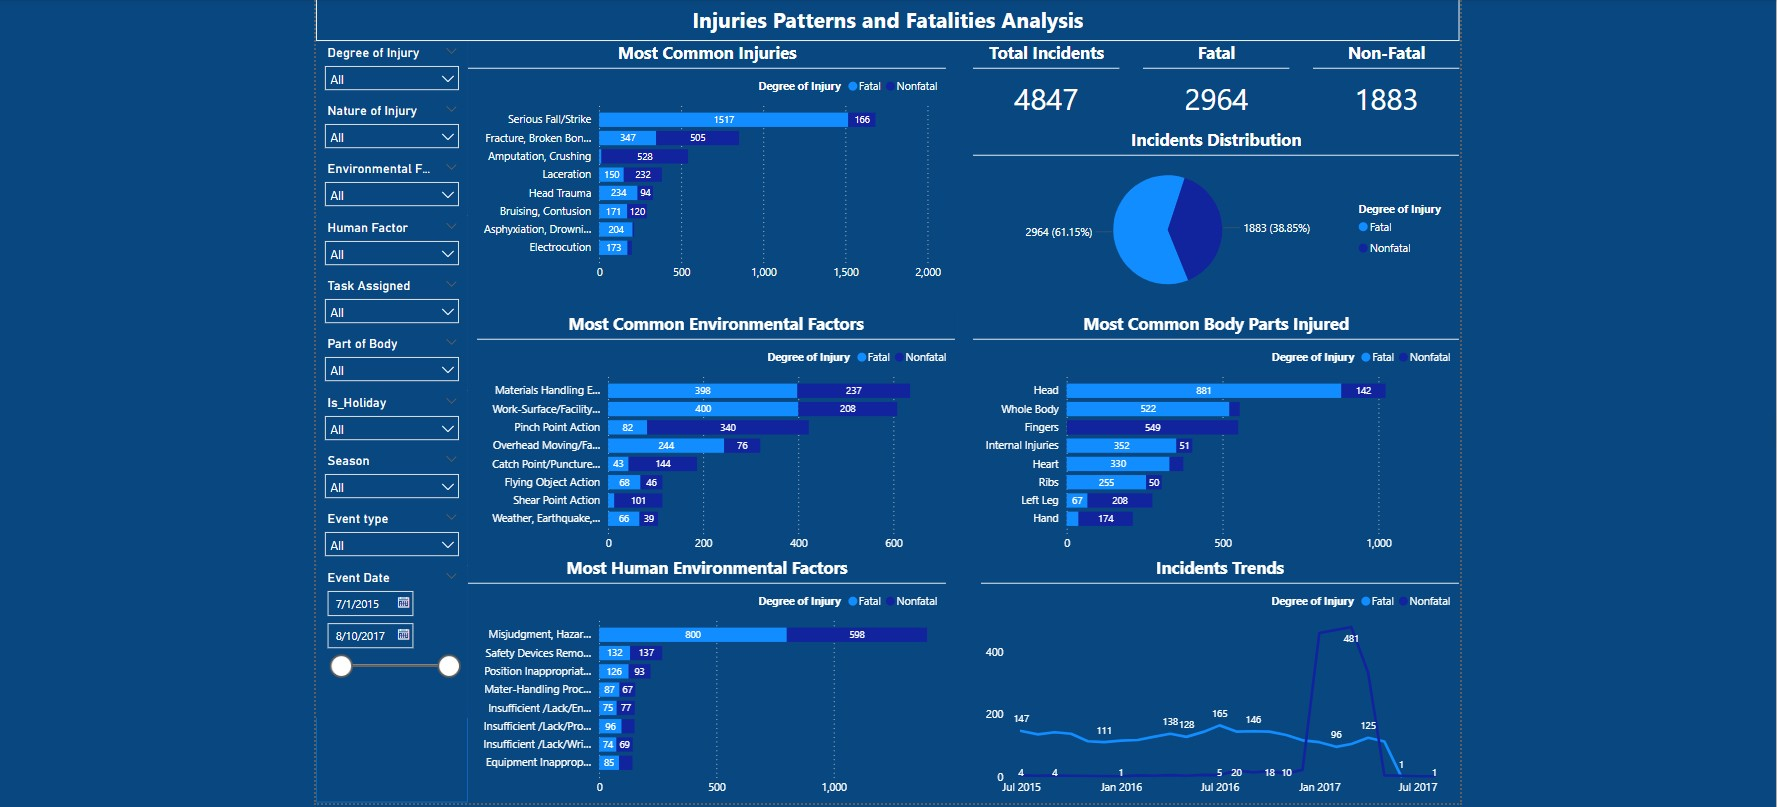

This screenshot's page, from the dashboard's own definition file:
{"tool":"powerbi","page":{"name":"Incidents Analysis","canvas":[1280,900],"ordinal":1},"visuals":[{"type":"pieChart","title":"Incidents Distribution","fields":{"Category":["osha_injuries.Degree of Injury"],"Y":["CountNonNull(osha_injuries.Degree of Injury)"]},"box":[735.6,144.6,544.4,195.8],"z":0},{"type":"shape","box":[0,46.6,170.2,853.3],"z":2},{"type":"slicer","fields":{"Values":["osha_injuries.Degree of Injury"]},"box":[0,46.6,170.2,65.3],"z":3},{"type":"slicer","fields":{"Values":["osha_injuries.Nature of Injury"]},"box":[0,111.9,170.2,65.3],"z":4},{"type":"slicer","fields":{"Values":["osha_injuries.Environmental Factor"]},"box":[0,177.2,170.2,65.3],"z":5},{"type":"slicer","fields":{"Values":["osha_injuries.Human Factor"]},"box":[0,242.5,170.2,65.3],"z":6},{"type":"slicer","fields":{"Values":["osha_injuries.Task Assigned"]},"box":[0,307.8,170.2,65.3],"z":7},{"type":"slicer","fields":{"Values":["osha_injuries.Part of Body"]},"box":[0,373,170.2,65.3],"z":8},{"type":"slicer","fields":{"Values":["osha_injuries.Is_Holiday"]},"box":[0,438.3,170.2,65.3],"z":9},{"type":"slicer","fields":{"Values":["osha_injuries.Season"]},"box":[0,503.6,170.2,65.3],"z":10},{"type":"slicer","fields":{"Values":["osha_injuries.Event type"]},"box":[0,568.9,170.2,65.3],"z":11},{"type":"slicer","fields":{"Values":["osha_injuries.Event Date"]},"box":[0,634.2,170.2,170.2],"z":12},{"type":"barChart","title":"Most Common Injuries","fields":{"Category":["osha_injuries.Nature of Injury"],"Y":["CountNonNull(osha_injuries.Nature of Injury)"],"Series":["osha_injuries.Degree of Injury"]},"box":[170.2,46.6,535.1,276.3],"z":13},{"type":"card","title":"Total Incidents","fields":{"Values":["CountNonNull(osha_injuries.Index)"]},"box":[735.6,46.6,164.4,97.9],"z":14},{"type":"barChart","title":"Most Human Environmental Factors","fields":{"Y":["CountNonNull(osha_injuries.Nature of Injury)"],"Series":["osha_injuries.Degree of Injury"],"Category":["osha_injuries.Human Factor"]},"box":[170.2,623.7,535.1,276.3],"z":16},{"type":"lineChart","title":"Incidents Trends","fields":{"Y":["CountNonNull(osha_injuries.Nature of Injury)"],"Category":["osha_injuries.Start of the Month"],"Series":["osha_injuries.Degree of Injury"]},"box":[744.9,623.7,535.1,276.3],"z":17},{"type":"card","title":"Fatal","fields":{"Values":["CountNonNull(osha_injuries.Index)"]},"box":[925.6,46.6,164.4,97.9],"z":18},{"type":"card","title":"Non-Fatal","fields":{"Values":["CountNonNull(osha_injuries.Index)"]},"box":[1115.6,46.6,164.4,97.9],"z":19},{"type":"barChart","title":"Most Common Body Parts Injured","fields":{"Y":["CountNonNull(osha_injuries.Nature of Injury)"],"Series":["osha_injuries.Degree of Injury"],"Category":["osha_injuries.Part of Body"]},"box":[735.6,350.9,544.4,276.3],"z":20},{"type":"barChart","title":"Most Common Environmental Factors","fields":{"Y":["CountNonNull(osha_injuries.Nature of Injury)"],"Series":["osha_injuries.Degree of Injury"],"Category":["osha_injuries.Environmental Factor"]},"box":[180.2,350.4,535.1,276.3],"z":21},{"type":"textbox","box":[0,0,1280,46.6],"z":22}]}

Visuals, with their boxes on the page's 1280x900 design canvas (x1, y1, x2, y2). These are canvas units, not pixel positions in the 1777x807 screenshot, which may show the page scaled, cropped or inside an application window:
"Incidents Distribution" pieChart: 736 145 1280 340
shape: 0 47 170 900
slicer - osha_injuries.Degree of Injury: 0 47 170 112
slicer - osha_injuries.Nature of Injury: 0 112 170 177
slicer - osha_injuries.Environmental Factor: 0 177 170 242
slicer - osha_injuries.Human Factor: 0 242 170 308
slicer - osha_injuries.Task Assigned: 0 308 170 373
slicer - osha_injuries.Part of Body: 0 373 170 438
slicer - osha_injuries.Is_Holiday: 0 438 170 504
slicer - osha_injuries.Season: 0 504 170 569
slicer - osha_injuries.Event type: 0 569 170 634
slicer - osha_injuries.Event Date: 0 634 170 804
"Most Common Injuries" barChart: 170 47 705 323
"Total Incidents" card: 736 47 900 144
"Most Human Environmental Factors" barChart: 170 624 705 900
"Incidents Trends" lineChart: 745 624 1280 900
"Fatal" card: 926 47 1090 144
"Non-Fatal" card: 1116 47 1280 144
"Most Common Body Parts Injured" barChart: 736 351 1280 627
"Most Common Environmental Factors" barChart: 180 350 715 627
textbox: 0 0 1280 47
